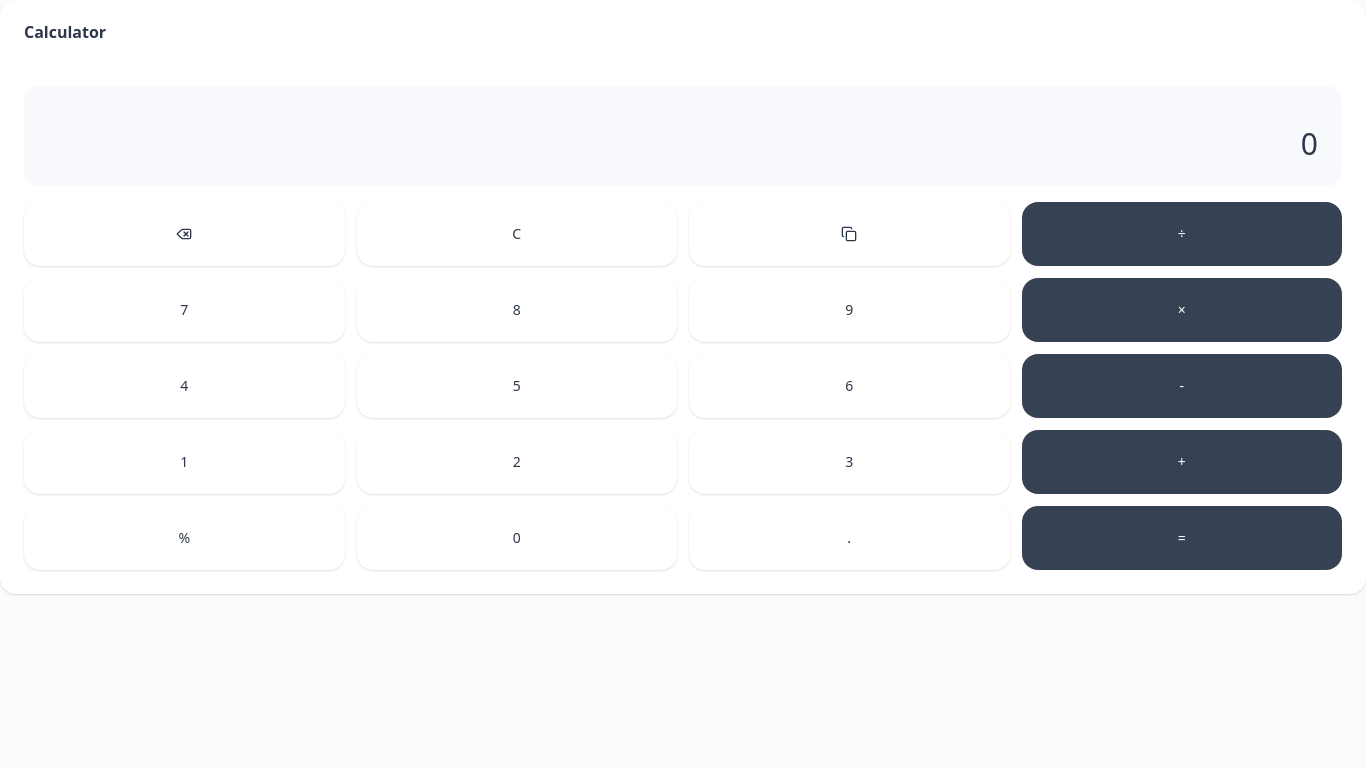
Test: Calculator Component › Number Input › should handle decimal point correctly
Click the button with test id "calculator-5" at (517, 386), box [356,354,677,418]
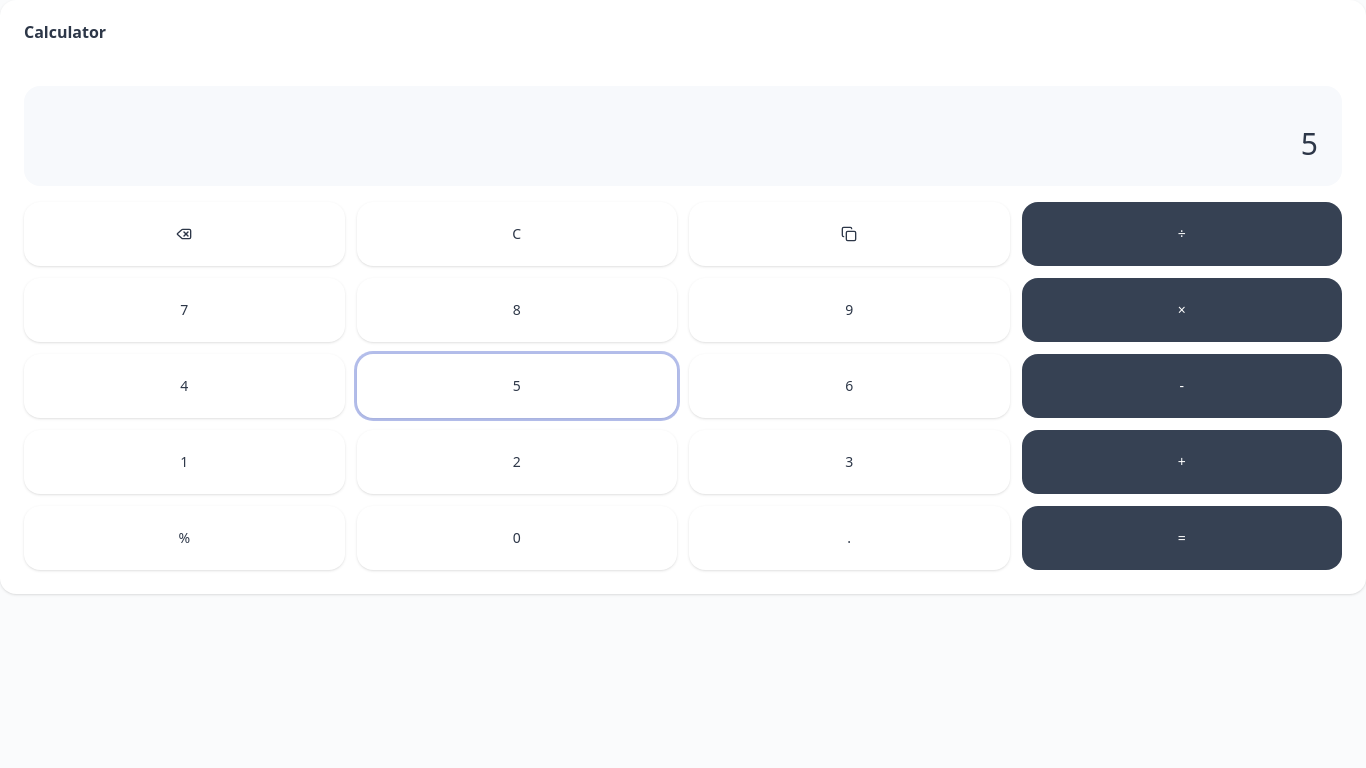
Click the button with test id "calculator-decimal" at (849, 538), box [689,506,1010,570]
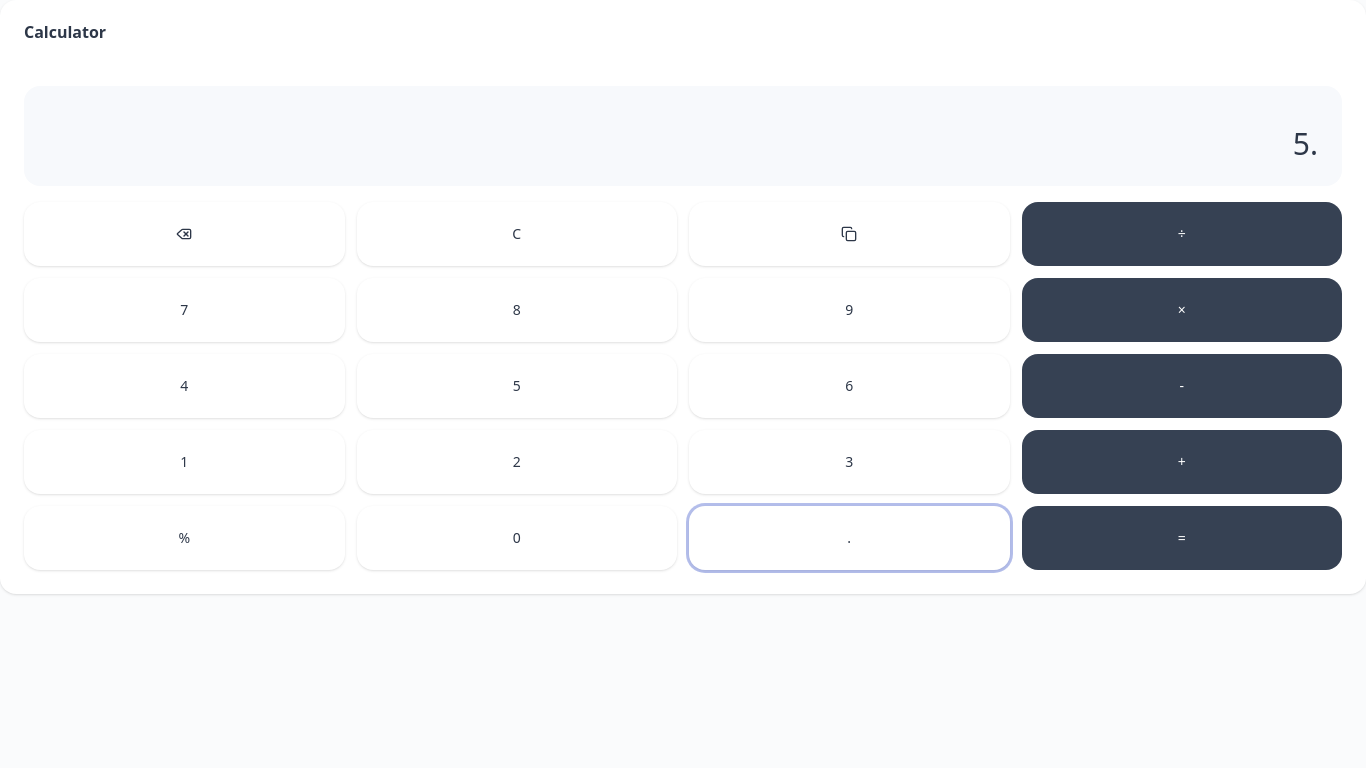
Click the button with test id "calculator-7" at (184, 310), box [24,278,344,342]
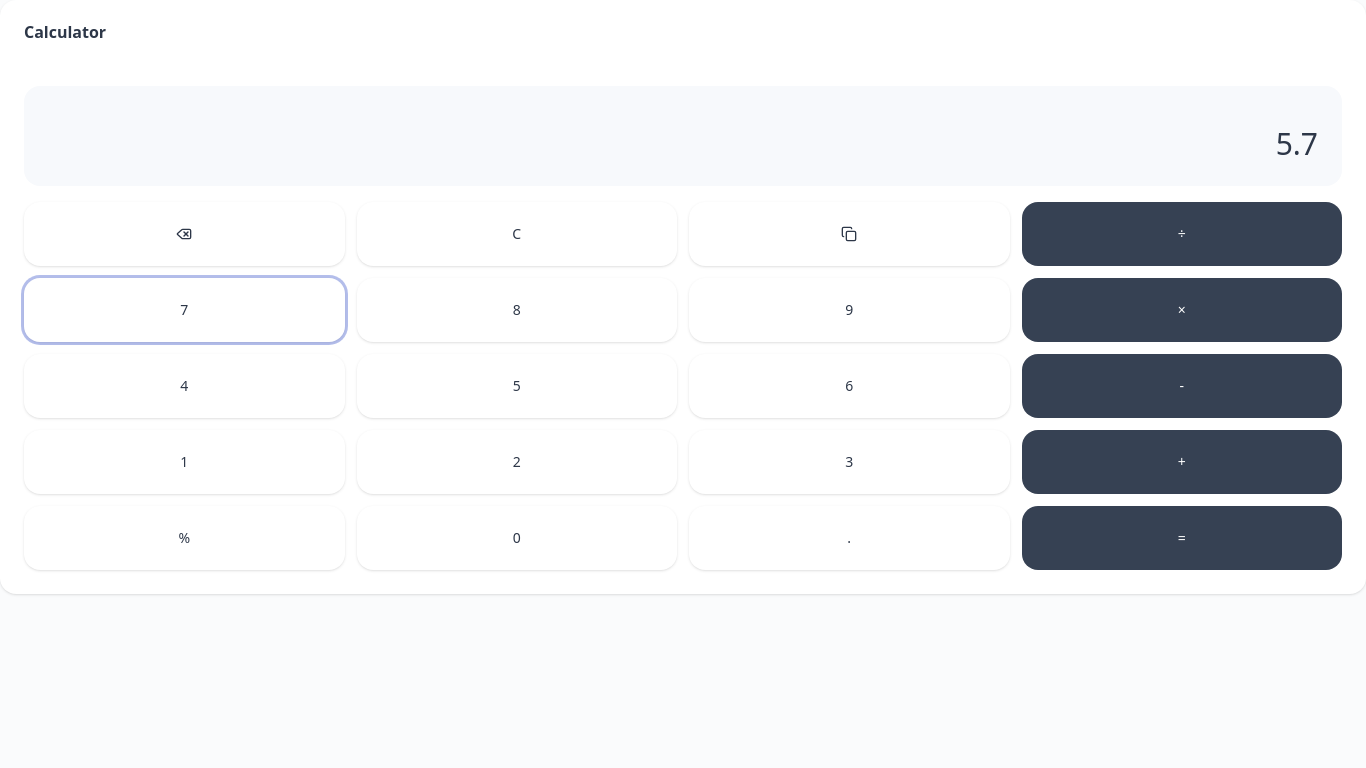
Expected: the text with test id "calculator-display" reads "5.7", [1276,123,1318,164]
